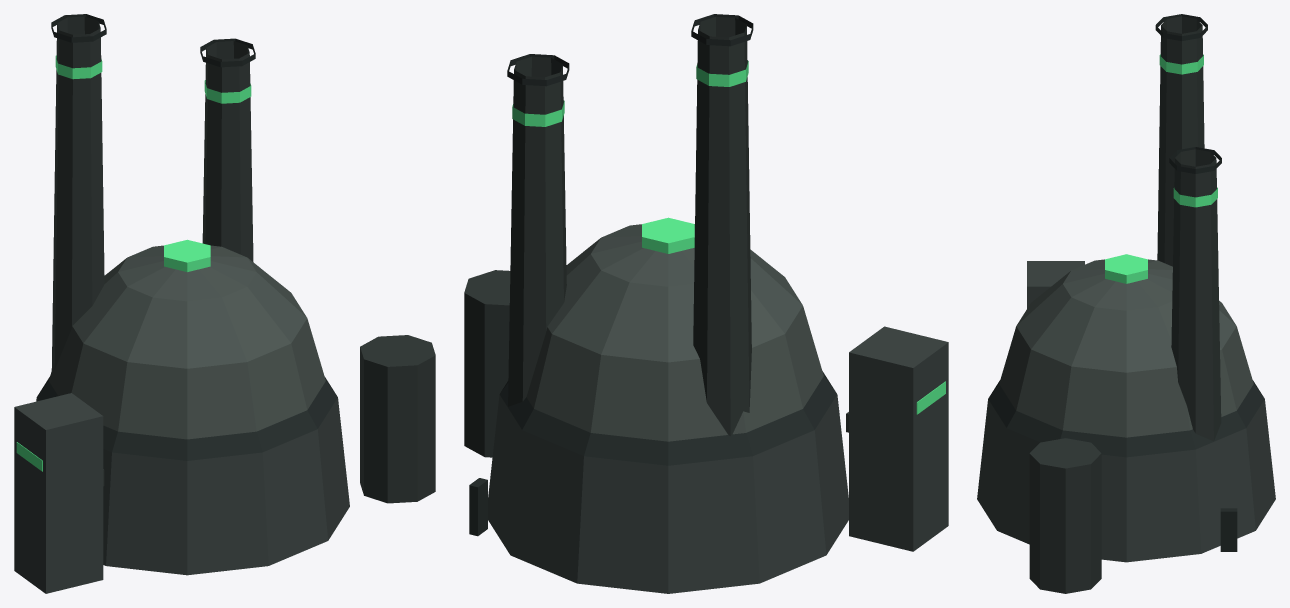
The model's file is reactor.obj.
3 views of the same model, side by side, from view 1: azimuth 30°, elevation 25°; view 2: azimuth 150°, elevation 25°; view 3: azimuth 270°, elevation 25° (orthographic). The views are drawn at different scales.
Bounding box in the file's own units: 15.62 × 17.5 × 10.8.
